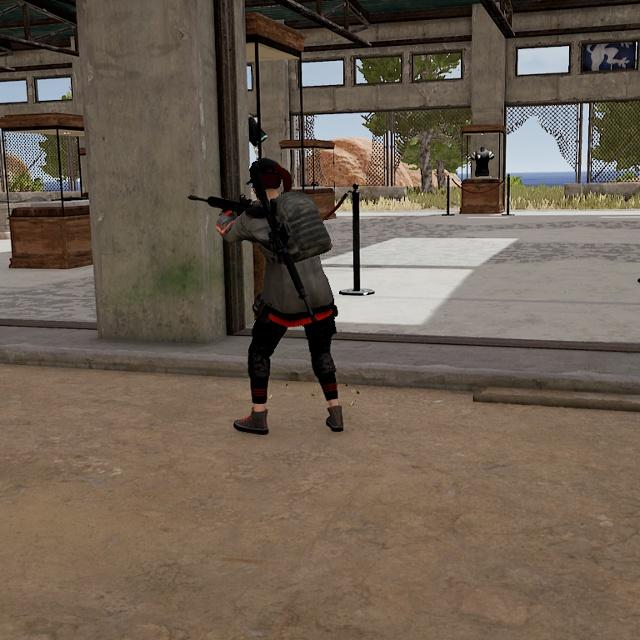head: (245, 154, 290, 204)
people: (213, 149, 361, 445)
